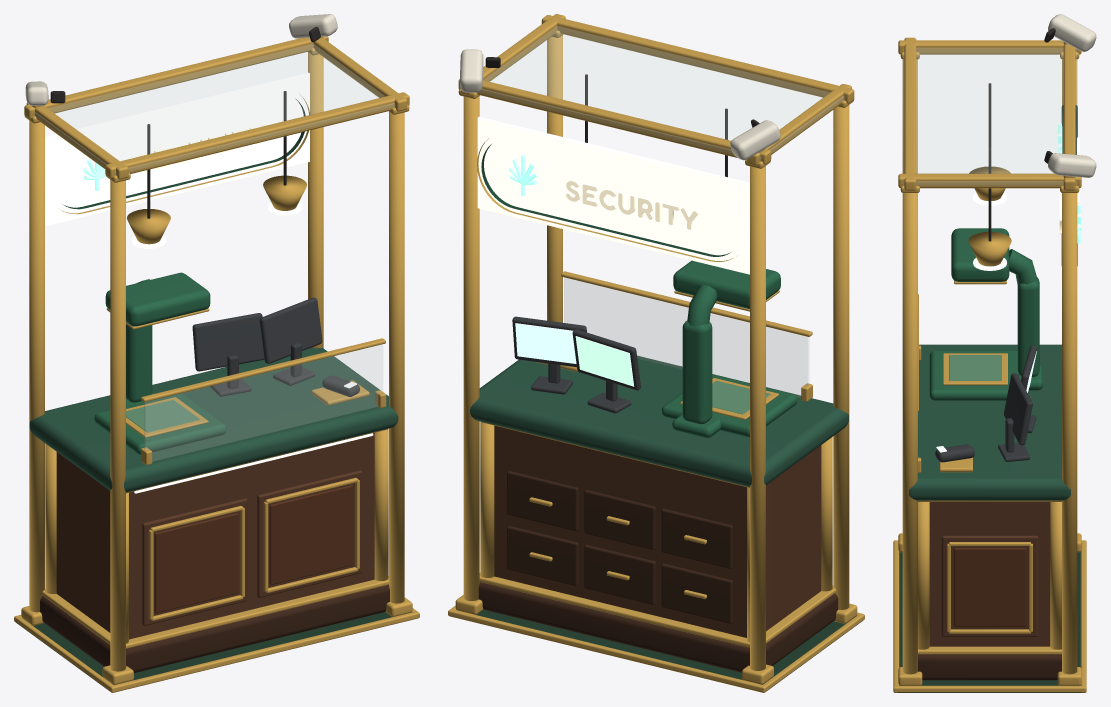
Rendered from security_booth_tier5.glb.
The picture shows the model from 3 angles, left to right: view 1: azimuth 30°, elevation 25°; view 2: azimuth 150°, elevation 25°; view 3: azimuth 270°, elevation 25°; orthographic projection. The views are drawn at different scales.
Parts seen in each view (by area): view 1: Body, Top, CanopyGlass, SignGlow, GuardGlass, Plinth, FrontPost-1, FrontPost1, RearPost-1, Front1Inset, Front0Inset, CanopyFrame0 (+25 smaller); view 2: Body, SignGlow, Top, CanopyGlass, GuardGlass, Plinth, RearPost1, FrontPost-1, RearPost-1, CanopyFrame0, CanopyFrame1, PlinthBrass (+29 smaller); view 3: CanopyGlass, Top, Body, FrontPost1, RearPost1, EndInset, Plinth, End, CanopyFrame3, CanopyFrame2, ScanPad, Mat (+28 smaller).
Boxes of the visible parts, box(x1,y1,x2,y2) form: Body: box(56, 433, 374, 639); Top: box(29, 347, 398, 492); CanopyGlass: box(34, 44, 394, 174); SignGlow: box(45, 72, 309, 226); GuardGlass: box(144, 344, 382, 461); Plinth: box(40, 585, 389, 672); FrontPost-1: box(110, 180, 125, 671); FrontPost1: box(389, 112, 404, 603); RearPost-1: box(29, 120, 44, 612); Front1Inset: box(269, 485, 352, 584); Front0Inset: box(154, 513, 237, 613); CanopyFrame0: box(105, 92, 409, 178); Body: box(494, 425, 821, 637); SignGlow: box(477, 116, 749, 274); Top: box(470, 355, 848, 486); CanopyGlass: box(479, 26, 844, 160); GuardGlass: box(564, 278, 809, 397); Plinth: box(478, 582, 838, 672); RearPost1: box(463, 96, 479, 600); FrontPost-1: box(833, 105, 849, 609); RearPost-1: box(750, 166, 765, 670); CanopyFrame0: box(541, 15, 854, 103); CanopyFrame1: box(458, 79, 771, 164); PlinthBrass: box(479, 573, 836, 647); CanopyGlass: box(903, 48, 1076, 185); Top: box(909, 344, 1070, 500); Body: box(929, 502, 1050, 646); FrontPost1: box(902, 193, 917, 674); RearPost1: box(1062, 193, 1077, 674); EndInset: box(954, 548, 1026, 626); Plinth: box(918, 654, 1061, 680); End: box(941, 535, 1038, 636); CanopyFrame3: box(898, 173, 1081, 188); CanopyFrame2: box(898, 40, 1081, 54); ScanPad: box(929, 350, 1017, 400); Mat: box(894, 552, 1082, 692).
Size of the model in its own units: 1.46 by 2.44 by 0.841.
